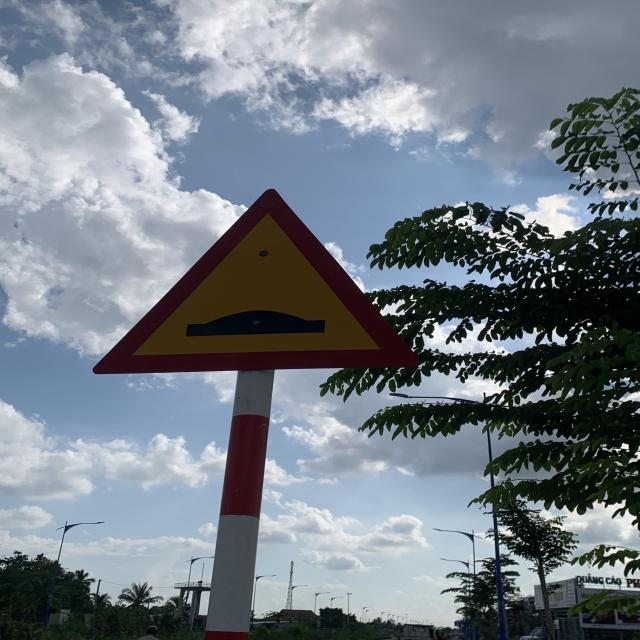Duong_Cong_Ben_Phai: (87, 186, 423, 372)
